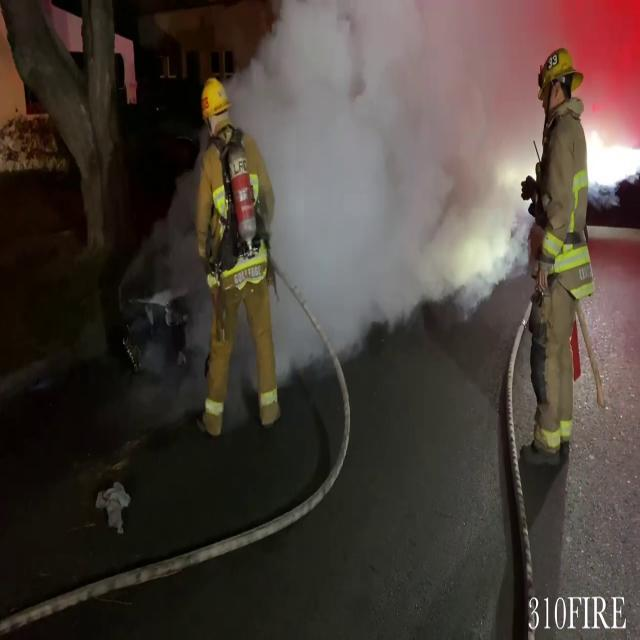Smoke: (246, 0, 570, 360), (245, 0, 465, 358)
